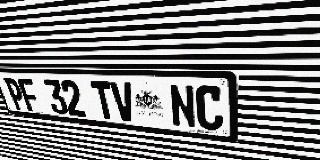2: (60, 80, 86, 117)
3: (43, 79, 69, 115)
C: (195, 85, 223, 131)
F: (17, 78, 42, 112)
N: (168, 84, 196, 129)
P: (3, 78, 28, 111)
T: (90, 81, 117, 120)
V: (110, 82, 137, 122)
